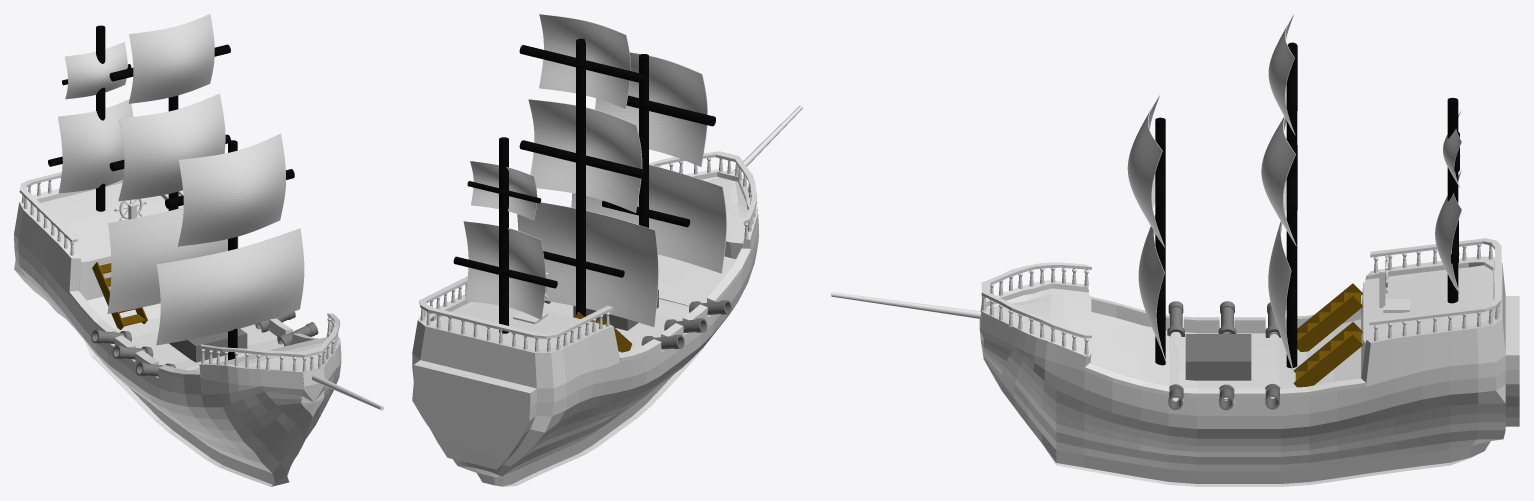
File: ship3.fbx
The picture shows the model from 3 angles, left to right: view 1: azimuth 30°, elevation 25°; view 2: azimuth 150°, elevation 25°; view 3: azimuth 270°, elevation 25°; orthographic projection. The views are drawn at different scales.
Visible parts, largest first — view 1: Cube, Plane, Plane.003, Plane.001, Plane.002, Plane.005, Plane.004, Plane.006, Cube.019, Cube.017, Cylinder.003, Cube.018 (+6 smaller); view 2: Cube, Plane.002, Plane.001, Plane, Plane.003, Plane.005, Plane.004, Cylinder.001, Plane.006, Cylinder.003, Cube.018, Cylinder.002 (+13 smaller); view 3: Cube, Cube.019, Plane.003, Cylinder.001, Plane.001, Cube.018, Plane.002, Plane, Cylinder.002, Cube.017, Plane.005, Plane.004 (+4 smaller).
Part boxes in pixels (x1=…): Cube: x1=14, y1=180, x2=341, y2=486; Plane: x1=156, y1=228, x2=304, y2=345; Plane.003: x1=178, y1=133, x2=285, y2=246; Plane.001: x1=118, y1=93, x2=225, y2=201; Plane.002: x1=107, y1=207, x2=238, y2=313; Plane.005: x1=129, y1=14, x2=214, y2=103; Plane.004: x1=58, y1=99, x2=133, y2=193; Plane.006: x1=65, y1=42, x2=127, y2=99; Cube.019: x1=169, y1=328, x2=247, y2=362; Cube.017: x1=200, y1=313, x2=339, y2=357; Cylinder.003: x1=96, y1=25, x2=105, y2=211; Cube.018: x1=19, y1=172, x2=183, y2=242; Cube: x1=412, y1=169, x2=758, y2=486; Plane.002: x1=517, y1=202, x2=658, y2=327; Plane.001: x1=528, y1=99, x2=642, y2=212; Plane: x1=571, y1=164, x2=726, y2=273; Plane.003: x1=595, y1=52, x2=707, y2=166; Plane.005: x1=539, y1=14, x2=630, y2=108; Plane.004: x1=463, y1=221, x2=545, y2=319; Cylinder.001: x1=576, y1=38, x2=585, y2=316; Plane.006: x1=470, y1=161, x2=537, y2=220; Cylinder.003: x1=499, y1=137, x2=508, y2=333; Cube.018: x1=419, y1=276, x2=613, y2=338; Cylinder.002: x1=639, y1=54, x2=648, y2=227; Cube: x1=979, y1=256, x2=1519, y2=486; Cube.019: x1=1185, y1=334, x2=1251, y2=380; Plane.003: x1=1127, y1=95, x2=1164, y2=247; Cylinder.001: x1=1286, y1=54, x2=1297, y2=368; Plane.001: x1=1261, y1=116, x2=1296, y2=245; Cube.018: x1=1369, y1=238, x2=1501, y2=325; Plane.002: x1=1268, y1=221, x2=1293, y2=371; Plane: x1=1138, y1=215, x2=1166, y2=362; Cylinder.002: x1=1155, y1=117, x2=1165, y2=365; Cube.017: x1=981, y1=262, x2=1091, y2=338; Plane.005: x1=1268, y1=14, x2=1295, y2=135; Plane.004: x1=1435, y1=170, x2=1461, y2=293.
Size of the model in its own units: 1260 by 2710 by 3811.
